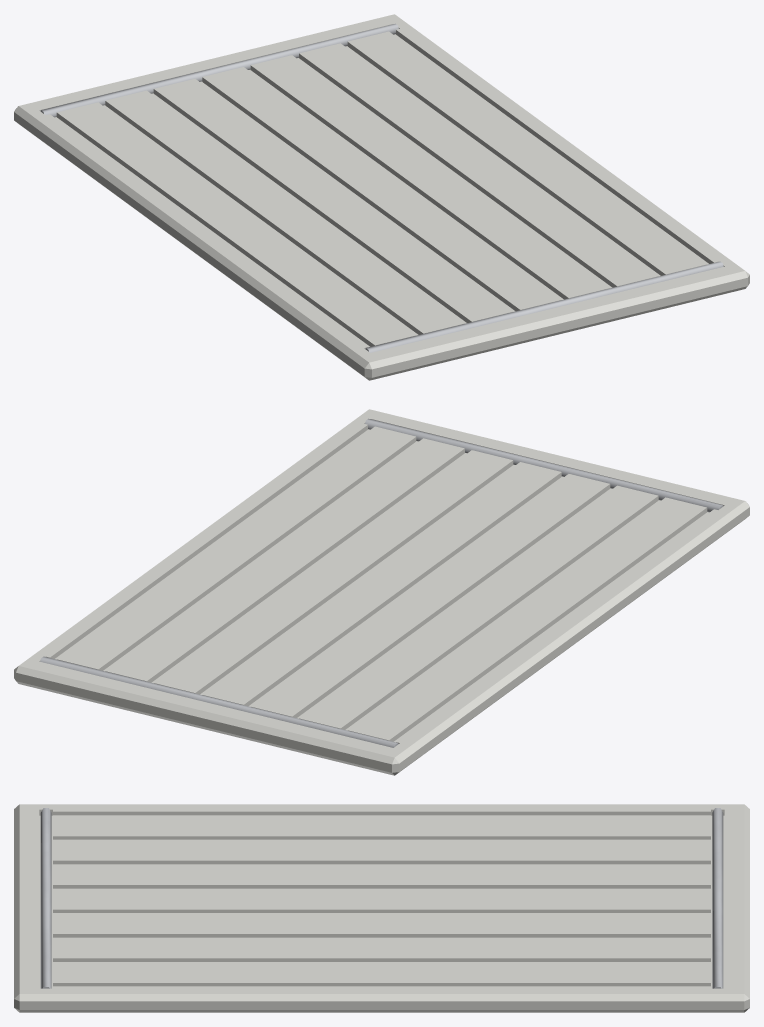
File: ax_power_06_conformal_radiator_m.glb
3 views of the same model, one above another, from view 1: azimuth 30°, elevation 25°; view 2: azimuth 150°, elevation 25°; view 3: azimuth 270°, elevation 25° (orthographic). The views are drawn at different scales.
Visible parts, largest first — view 1: radiator_panel, flow_manifolds; view 2: radiator_panel, flow_manifolds; view 3: radiator_panel, flow_manifolds.
Part boxes in pixels (left/top/right/bottom): radiator_panel: left=14, top=14, right=749, bottom=380; flow_manifolds: left=40, top=23, right=723, bottom=352; radiator_panel: left=14, top=409, right=749, bottom=775; flow_manifolds: left=40, top=418, right=723, bottom=747; radiator_panel: left=14, top=804, right=749, bottom=1012; flow_manifolds: left=40, top=808, right=723, bottom=988.
Size of the model in its own units: 1 by 0.049 by 1.6.
Materials: 2 (1 with a texture image).
